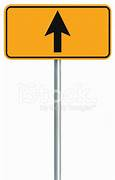forward: (4, 3, 111, 60)
